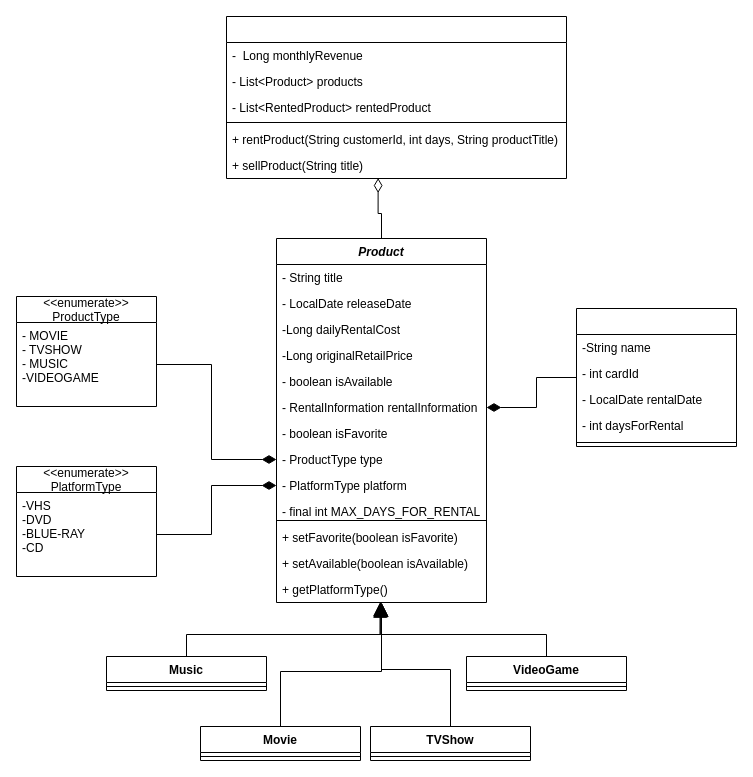
The diagram is 753 pixels wide and 777 high, and some of its shapes have lost their labels. Here are the shapes that lost their labels. From the top down, the box of each, then its label:
(226, 16, 566, 178): Store
(576, 308, 736, 446): RentalInfromation
